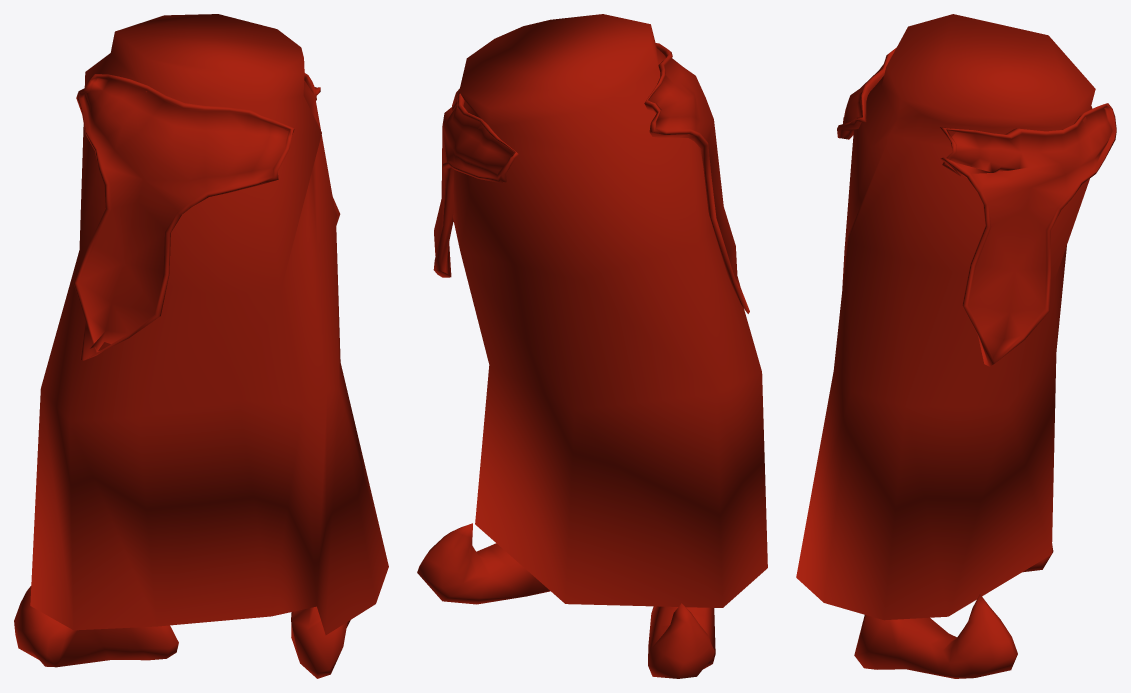
Rendered from bot_000048.obj.
3 views of the same model, side by side, from view 1: azimuth 30°, elevation 25°; view 2: azimuth 150°, elevation 25°; view 3: azimuth 270°, elevation 25° (orthographic). The views are drawn at different scales.
Parts seen in each view (by area): view 1: LowPoly_Warlock.004_Plane.004; view 2: LowPoly_Warlock.004_Plane.004; view 3: LowPoly_Warlock.004_Plane.004.
Boxes of the visible parts, x1,y1,x2,y2 form: LowPoly_Warlock.004_Plane.004: (14, 14, 388, 678); LowPoly_Warlock.004_Plane.004: (417, 14, 767, 678); LowPoly_Warlock.004_Plane.004: (796, 14, 1116, 678).
Bounding box in the file's own units: 0.6022 × 1.14 × 0.5568.
